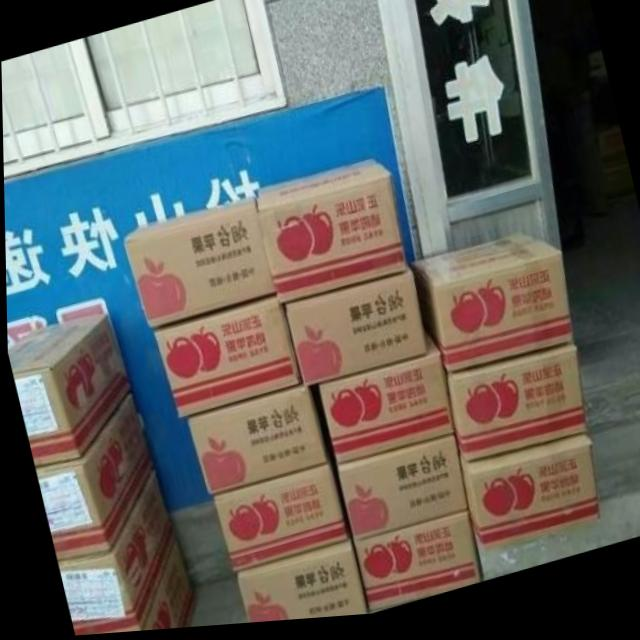box: (410, 237, 572, 376), (256, 161, 404, 312), (34, 394, 152, 562), (55, 468, 172, 636), (123, 200, 273, 328), (7, 313, 129, 468), (319, 341, 451, 472), (153, 302, 297, 421), (282, 270, 425, 389), (445, 351, 585, 467), (459, 441, 600, 555), (186, 390, 323, 498), (210, 466, 347, 574), (335, 436, 464, 546), (352, 515, 478, 617), (233, 545, 364, 626), (142, 543, 191, 632)
